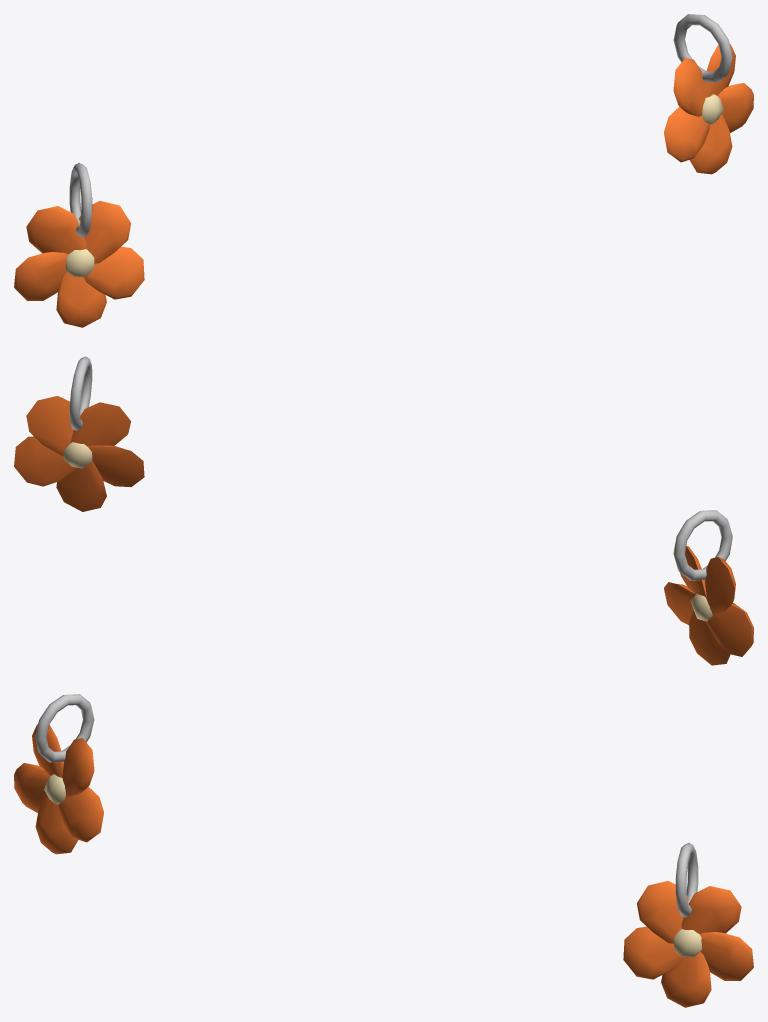
The model's file is Earring_15.fbx.
3 views of the same model, one above another, from view 1: azimuth 30°, elevation 25°; view 2: azimuth 150°, elevation 25°; view 3: azimuth 330°, elevation 25° (orthographic).
Visible parts, largest first — view 1: Earring_15; view 2: Earring_15; view 3: Earring_15.
Part boxes in pixels (bbox=[...]): Earring_15: bbox=[14, 14, 753, 327]; Earring_15: bbox=[14, 356, 753, 665]; Earring_15: bbox=[14, 694, 753, 1007].
Size of the model in its own units: 59.66 by 12.15 by 4.99.
